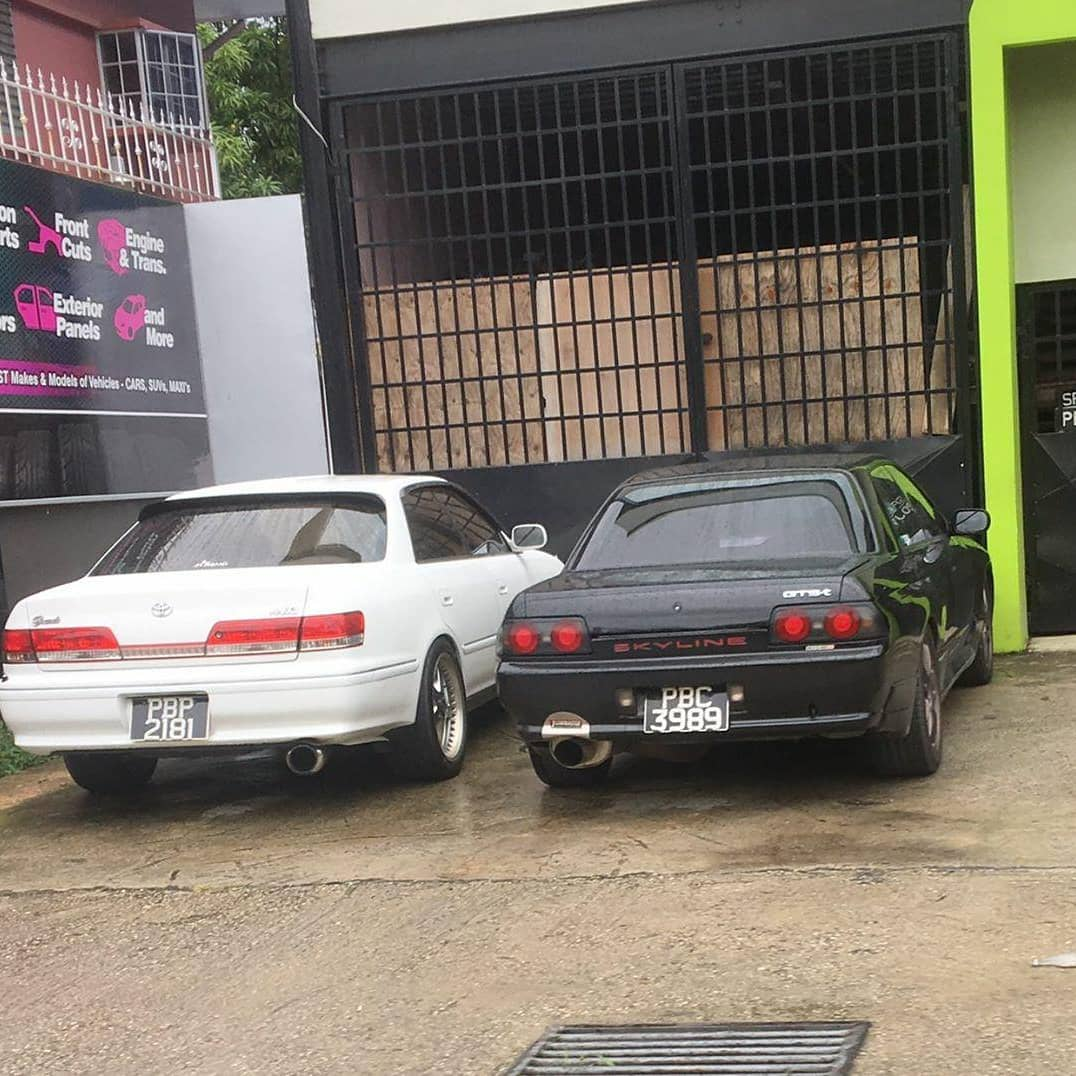License-Plate: (643, 684, 727, 731), (131, 694, 206, 740)
